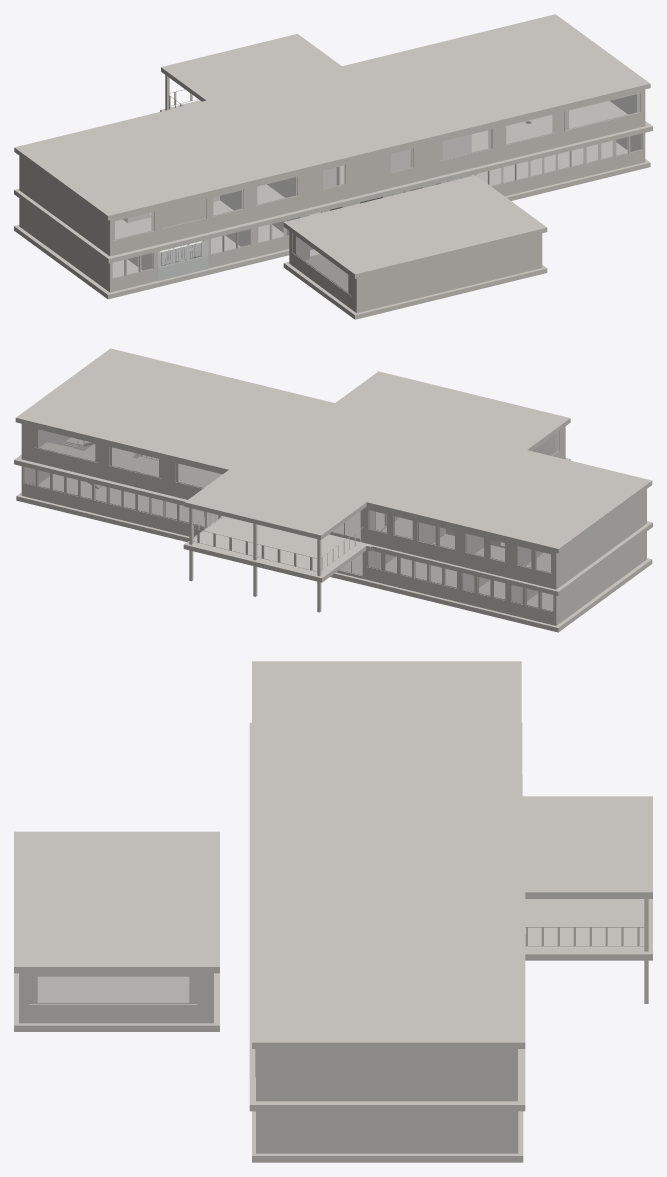
The model's file is iot_walk.glb.
3 views of the same model, one above another, from view 1: azimuth 30°, elevation 25°; view 2: azimuth 150°, elevation 25°; view 3: azimuth 270°, elevation 25° (orthographic). The views are drawn at different scales.
Parts seen in each view (by area): view 1: BEYOND_L2_SLAB, BEYOND_L1_WALL, BEYOND_L0_WALL, BEYOND_L0_SLAB, BEYOND_L1_SLAB, BEYOND_L1_GLASS, BEYOND_L0_GLASS, UPPER_in_zone, BEYOND_L1_FRAME, BEYOND_L0_FRAME, BAKE_wall_south, BEYOND_L1_OTHER (+2 smaller); view 2: BEYOND_L2_SLAB, BEYOND_L1_WALL, BEYOND_L1_SLAB, BEYOND_L0_WALL, BEYOND_L0_SLAB, BEYOND_L1_GLASS, BEYOND_L0_GLASS, UPPER_in_zone, BEYOND_L1_FRAME, BEYOND_L0_FRAME, BEYOND_L1_OTHER, BEYOND_L1_STAIR (+3 smaller); view 3: BEYOND_L2_SLAB, BEYOND_L0_WALL, BEYOND_L1_WALL, BEYOND_L1_SLAB, BEYOND_L0_SLAB, UPPER_in_zone, BEYOND_L0_GLASS, BEYOND_L0_FRAME.
Boxes of the visible parts, left/top/right/bottom form: BEYOND_L2_SLAB: left=14, top=14, right=650, bottom=278; BEYOND_L1_WALL: left=19, top=89, right=645, bottom=256; BEYOND_L0_WALL: left=19, top=133, right=645, bottom=313; BEYOND_L0_SLAB: left=14, top=122, right=650, bottom=319; BEYOND_L1_SLAB: left=14, top=100, right=652, bottom=263; BEYOND_L1_GLASS: left=115, top=94, right=636, bottom=238; BEYOND_L0_GLASS: left=113, top=134, right=641, bottom=291; UPPER_in_zone: left=121, top=163, right=208, bottom=244; BEYOND_L1_FRAME: left=113, top=93, right=640, bottom=240; BEYOND_L0_FRAME: left=112, top=134, right=642, bottom=295; BAKE_wall_south: left=158, top=232, right=208, bottom=280; BEYOND_L1_OTHER: left=112, top=89, right=641, bottom=240; BEYOND_L2_SLAB: left=15, top=348, right=652, bottom=553; BEYOND_L1_WALL: left=21, top=424, right=646, bottom=589; BEYOND_L1_SLAB: left=14, top=442, right=652, bottom=596; BEYOND_L0_WALL: left=21, top=426, right=646, bottom=625; BEYOND_L0_SLAB: left=16, top=444, right=652, bottom=632; BEYOND_L1_GLASS: left=38, top=429, right=550, bottom=572; BEYOND_L0_GLASS: left=24, top=434, right=555, bottom=610; UPPER_in_zone: left=512, top=457, right=598, bottom=495; BEYOND_L1_FRAME: left=34, top=428, right=551, bottom=573; BEYOND_L0_FRAME: left=23, top=431, right=558, bottom=611; BEYOND_L1_OTHER: left=34, top=428, right=551, bottom=573; BEYOND_L1_STAIR: left=136, top=454, right=500, bottom=570; BEYOND_L2_SLAB: left=14, top=661, right=652, bottom=1048; BEYOND_L0_WALL: left=19, top=973, right=518, bottom=1153; BEYOND_L1_WALL: left=256, top=1049, right=517, bottom=1101; BEYOND_L1_SLAB: left=249, top=722, right=652, bottom=1111; BEYOND_L0_SLAB: left=14, top=775, right=523, bottom=1162; UPPER_in_zone: left=256, top=697, right=362, bottom=733; BEYOND_L0_GLASS: left=38, top=977, right=188, bottom=1002; BEYOND_L0_FRAME: left=29, top=976, right=197, bottom=1003.
Size of the model in its own units: 38.22 by 5.6 by 27.
11 materials, 8 textured.
